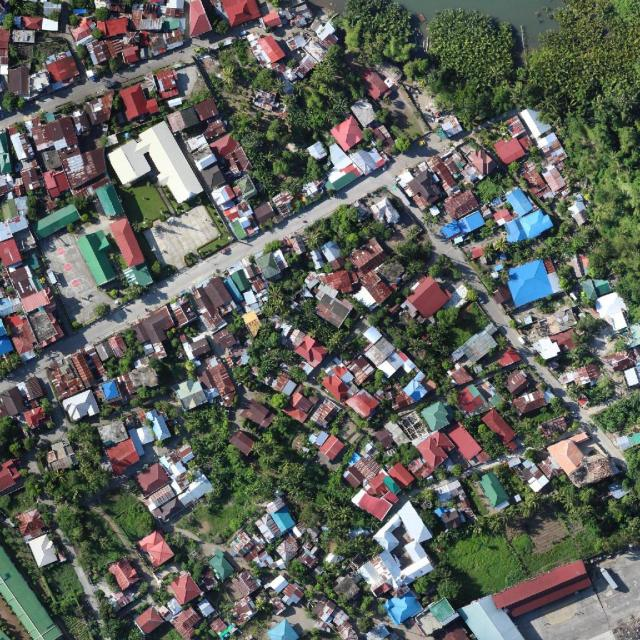building: (0, 213, 64, 355), (92, 0, 195, 70), (491, 557, 593, 622), (132, 120, 205, 209), (457, 588, 525, 640), (185, 273, 242, 335), (193, 353, 248, 410), (130, 306, 184, 364), (425, 476, 478, 534), (308, 141, 363, 196), (75, 227, 124, 287), (502, 258, 555, 308), (451, 322, 505, 371), (357, 549, 408, 600), (105, 138, 154, 188), (402, 273, 451, 322), (565, 447, 617, 493), (208, 131, 254, 182), (500, 206, 555, 248), (411, 594, 459, 638), (108, 216, 146, 270), (43, 355, 86, 402), (29, 116, 78, 157), (61, 149, 110, 190), (592, 288, 634, 335), (392, 500, 433, 548), (4, 310, 41, 363), (31, 202, 81, 241), (372, 511, 416, 555), (414, 427, 458, 471), (401, 168, 445, 212), (43, 356, 85, 402), (546, 432, 588, 476), (346, 236, 390, 278), (340, 451, 384, 492), (452, 379, 497, 419), (313, 288, 355, 329), (118, 81, 160, 122), (228, 262, 269, 303), (381, 587, 423, 627), (247, 29, 287, 70), (137, 528, 176, 570), (444, 421, 483, 463), (82, 89, 124, 127), (425, 153, 461, 197), (103, 438, 143, 477), (349, 140, 390, 178), (374, 346, 417, 382), (481, 407, 519, 447), (475, 469, 511, 510), (441, 186, 481, 222), (514, 457, 551, 495), (177, 0, 213, 39), (330, 116, 367, 153), (358, 267, 394, 305), (61, 390, 100, 425), (534, 129, 569, 168), (491, 132, 527, 169), (356, 67, 392, 104), (518, 102, 553, 140), (345, 385, 381, 421), (173, 376, 209, 412), (395, 407, 430, 444), (107, 555, 141, 592), (45, 53, 82, 87), (212, 0, 260, 26), (168, 572, 203, 607), (67, 15, 102, 50), (320, 267, 356, 301), (368, 196, 402, 232), (81, 342, 110, 384), (69, 350, 99, 390), (27, 532, 60, 568), (356, 488, 392, 521), (396, 556, 434, 587), (94, 182, 125, 220), (342, 353, 376, 387), (15, 508, 48, 542), (402, 370, 435, 404), (503, 184, 535, 219), (231, 567, 264, 600), (420, 400, 453, 433), (320, 371, 353, 404), (364, 335, 397, 368), (165, 296, 198, 329), (465, 145, 498, 178), (122, 260, 155, 293), (43, 440, 77, 472), (558, 365, 603, 389), (144, 406, 173, 443), (362, 470, 395, 502), (500, 366, 533, 398), (564, 193, 596, 226), (512, 388, 549, 416), (324, 358, 356, 390), (349, 96, 380, 129), (166, 105, 201, 134), (133, 605, 165, 636), (229, 595, 261, 626), (323, 142, 354, 174), (228, 211, 260, 242), (270, 188, 301, 220), (253, 512, 283, 545), (254, 251, 284, 284), (256, 32, 286, 65), (310, 595, 341, 626), (532, 333, 563, 364), (209, 181, 239, 213), (539, 162, 568, 195), (0, 387, 28, 421), (276, 580, 306, 610), (227, 530, 257, 560), (16, 374, 46, 404), (382, 419, 411, 450), (386, 460, 416, 489), (580, 275, 612, 302), (445, 361, 474, 390), (273, 535, 303, 563), (405, 455, 434, 483), (230, 174, 258, 203), (156, 68, 181, 100), (190, 145, 219, 172), (266, 618, 301, 640), (402, 538, 429, 566), (538, 455, 565, 483), (270, 506, 296, 535), (456, 210, 486, 235), (434, 480, 465, 504), (496, 346, 523, 373), (303, 37, 330, 64), (352, 285, 380, 311), (293, 52, 319, 79), (193, 97, 220, 123), (550, 329, 578, 354), (241, 309, 265, 338), (264, 573, 290, 599), (443, 151, 469, 177), (458, 161, 484, 187), (22, 406, 49, 431), (200, 117, 228, 141), (186, 333, 212, 358), (319, 238, 344, 264), (597, 565, 621, 592), (29, 69, 51, 98), (71, 108, 93, 137), (252, 201, 277, 226), (8, 67, 29, 96), (503, 115, 527, 140), (313, 282, 339, 305), (389, 390, 415, 411), (527, 471, 550, 494), (376, 356, 399, 379), (440, 115, 463, 138), (259, 10, 283, 32), (195, 597, 217, 620), (491, 285, 514, 307), (491, 205, 514, 227), (0, 319, 14, 355), (252, 549, 274, 571), (361, 324, 383, 346), (306, 140, 328, 162), (288, 233, 308, 257), (0, 26, 10, 74), (184, 133, 208, 153), (267, 594, 288, 616), (100, 380, 120, 402), (135, 424, 155, 446), (285, 33, 308, 52), (366, 623, 391, 640), (330, 607, 351, 627), (395, 170, 416, 190), (318, 31, 339, 51), (285, 34, 308, 52), (309, 247, 326, 271), (546, 270, 563, 294), (209, 616, 229, 636), (302, 181, 324, 199), (288, 13, 308, 32), (105, 38, 124, 58), (264, 497, 285, 515), (235, 199, 254, 218), (165, 597, 183, 616), (381, 489, 399, 507), (222, 206, 241, 223), (541, 256, 557, 276), (12, 29, 34, 43), (302, 274, 320, 291), (570, 431, 589, 446), (21, 17, 42, 30), (242, 289, 258, 306), (378, 125, 393, 143), (14, 196, 28, 215), (44, 1, 61, 14), (42, 18, 59, 31), (364, 349, 379, 362), (417, 161, 430, 174), (70, 160, 82, 174), (294, 4, 308, 15), (94, 0, 109, 9)
greenland: (395, 454, 640, 619), (226, 84, 350, 206), (270, 43, 379, 152), (414, 0, 528, 98), (428, 9, 516, 123), (35, 417, 129, 519), (175, 396, 260, 504), (289, 468, 381, 560), (368, 301, 491, 368), (46, 490, 131, 583), (176, 475, 263, 559), (299, 192, 394, 266), (445, 535, 531, 593), (308, 45, 370, 121), (522, 526, 603, 583), (284, 293, 352, 360), (234, 320, 298, 384), (98, 481, 161, 546), (197, 34, 263, 95), (157, 523, 218, 584), (408, 558, 469, 618), (114, 172, 172, 233), (216, 333, 273, 391), (510, 399, 567, 455), (99, 326, 150, 385), (0, 470, 53, 526), (196, 205, 240, 264), (590, 390, 640, 440), (393, 231, 443, 281), (331, 525, 382, 574), (274, 460, 326, 508), (409, 486, 454, 537), (519, 231, 593, 260), (115, 499, 160, 544), (418, 352, 456, 399), (254, 425, 283, 482), (424, 252, 464, 292), (470, 421, 509, 462), (98, 594, 130, 640), (243, 471, 280, 507), (268, 410, 305, 445), (582, 375, 620, 408), (282, 557, 317, 589), (31, 38, 71, 66), (0, 416, 24, 462), (565, 341, 598, 373), (573, 309, 606, 341), (472, 174, 505, 206), (146, 351, 176, 386), (264, 281, 291, 319), (309, 566, 340, 597), (433, 574, 464, 604), (264, 284, 290, 318), (250, 65, 280, 94), (0, 89, 27, 117), (402, 58, 430, 82), (335, 593, 360, 619), (267, 345, 299, 365), (557, 263, 577, 293), (410, 572, 433, 597), (149, 585, 173, 608), (354, 613, 377, 635), (489, 371, 511, 393), (392, 133, 414, 155), (552, 199, 571, 222), (260, 237, 283, 255), (0, 11, 19, 32), (156, 626, 185, 639), (138, 386, 166, 399), (444, 389, 463, 408), (358, 594, 375, 615), (283, 251, 302, 269), (492, 236, 510, 254), (2, 91, 16, 112), (289, 267, 305, 283), (16, 44, 34, 57), (169, 336, 183, 350), (185, 360, 195, 379), (495, 335, 508, 349), (8, 45, 20, 59)
metalled_road: (0, 126, 459, 396), (426, 225, 639, 484), (108, 72, 145, 93)
